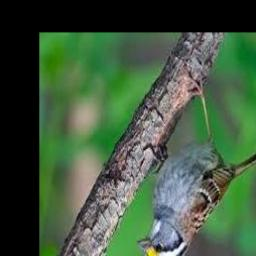Sparrow: (138, 72, 256, 256)
